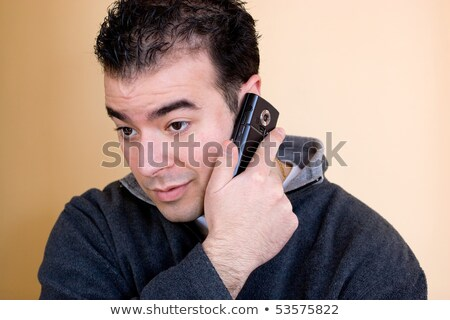phone: (221, 83, 282, 191)
talk: (110, 80, 311, 256)
